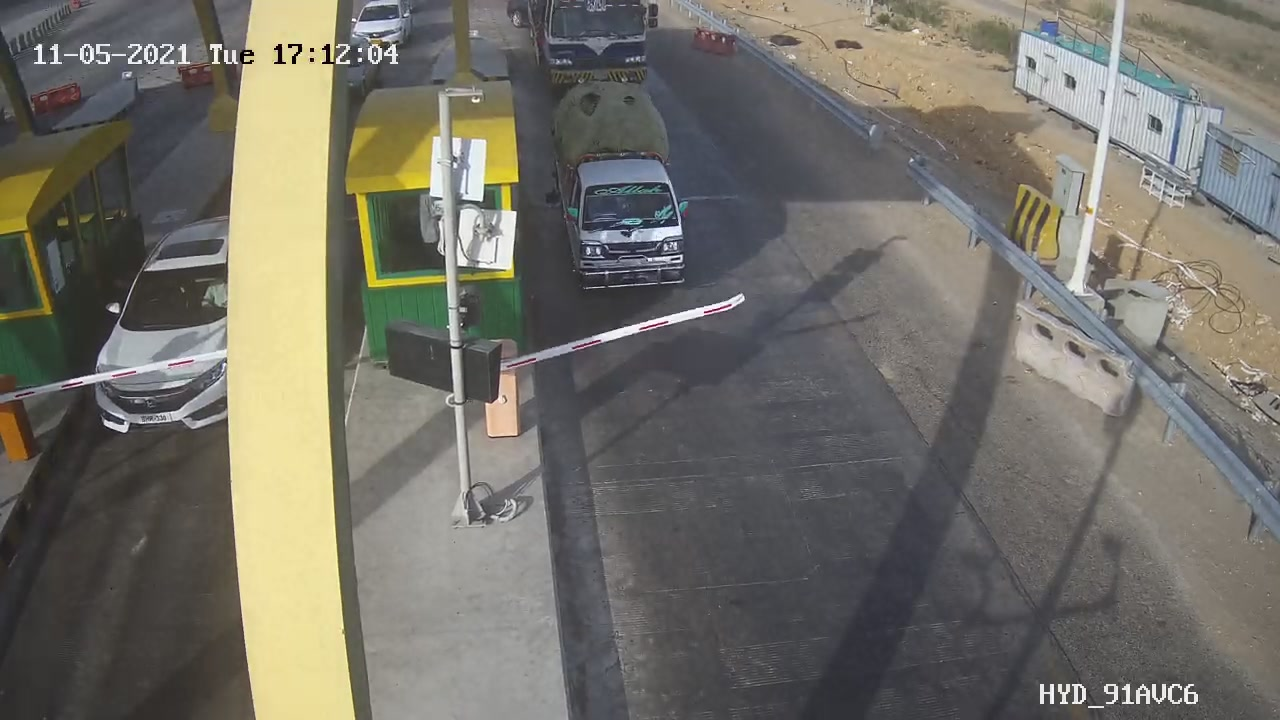F1: (529, 78, 714, 307)
